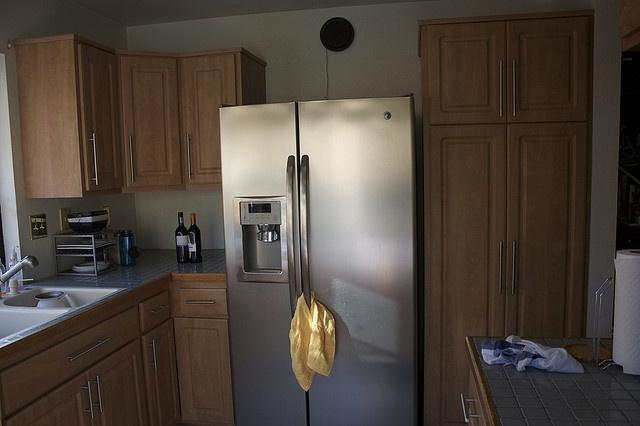Lemari: (417, 9, 594, 425), (10, 34, 266, 199)
